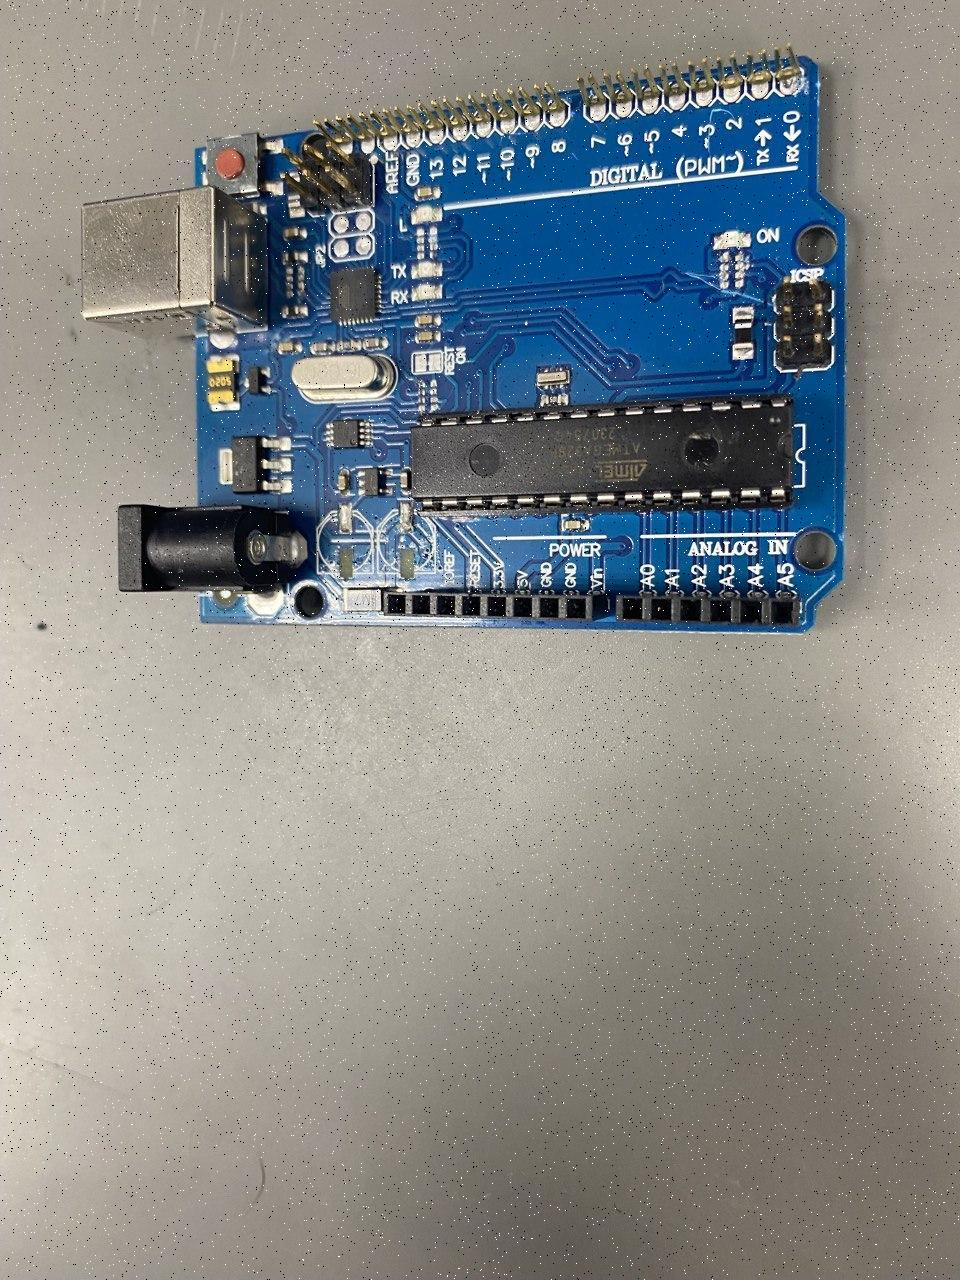ATmega328 chip: (411, 395, 794, 518)
Arduino board: (80, 44, 847, 635)
USB: (81, 186, 268, 342)
pins: (383, 588, 609, 621), (615, 595, 801, 624)
